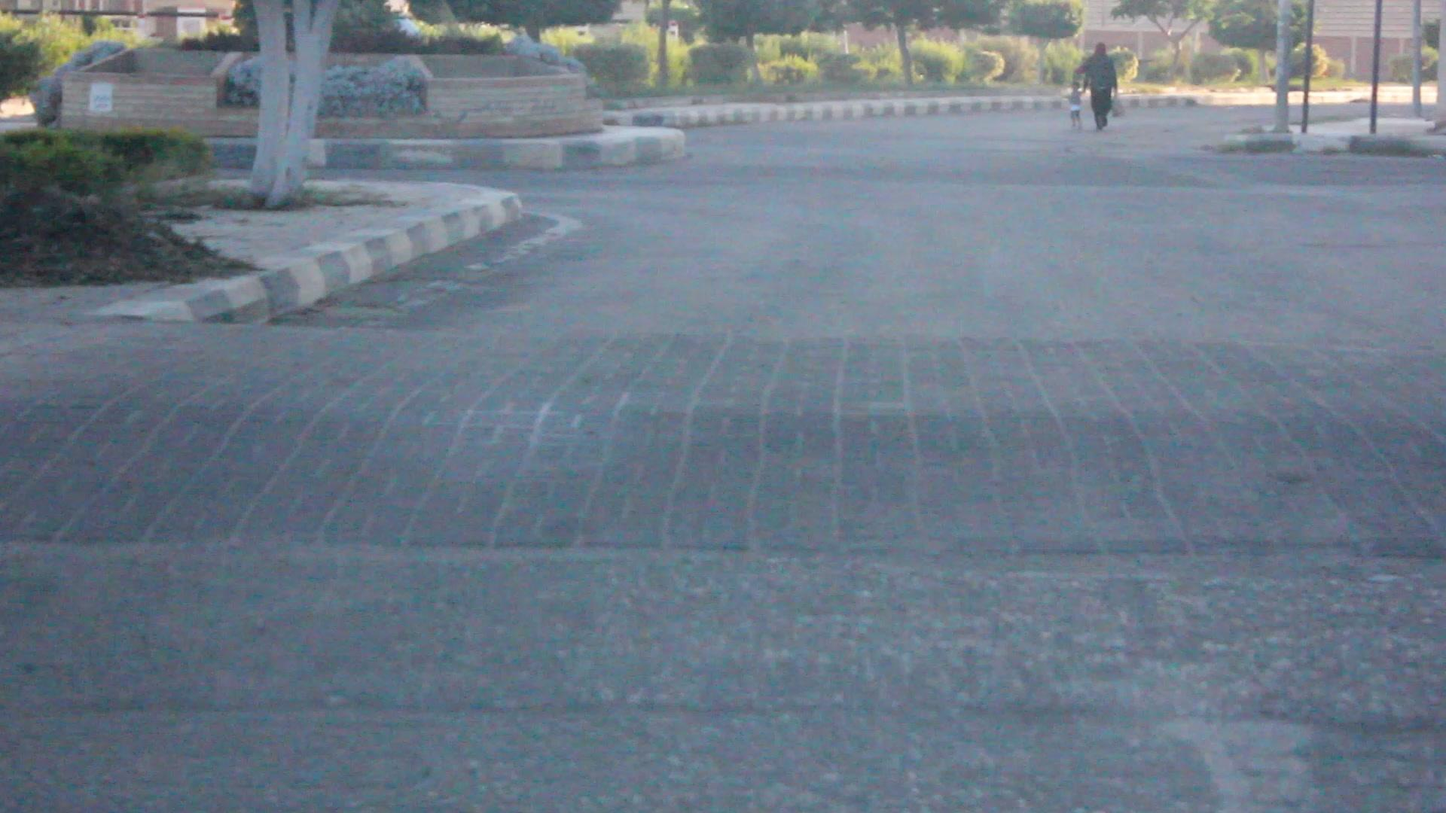Bump: (0, 286, 1446, 555)
